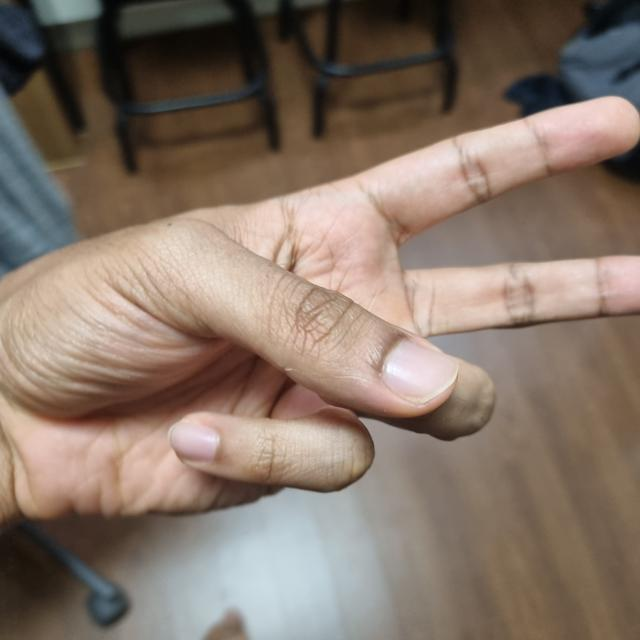Scissors: (0, 98, 640, 639)
